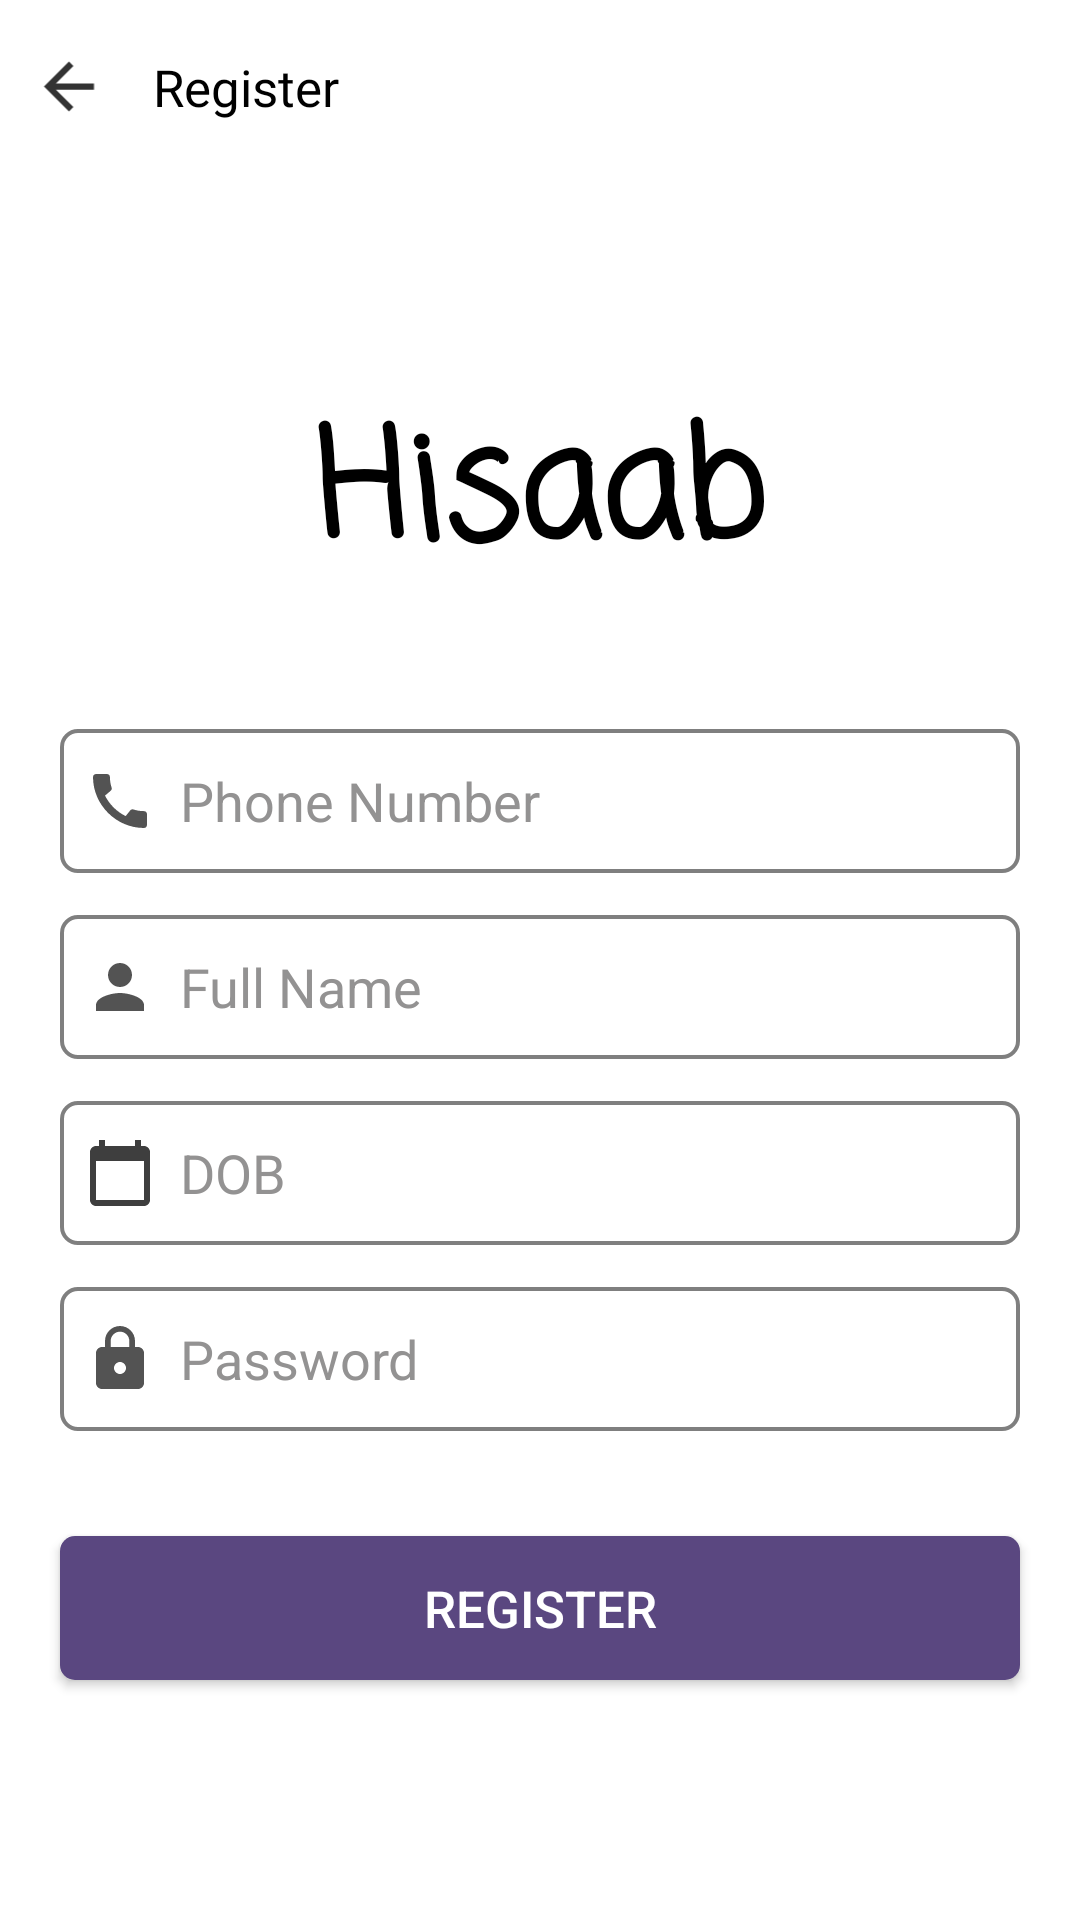

Where to tap for icons on this 1080x1920 app screen, as [x,y]:
back: [69,86]
